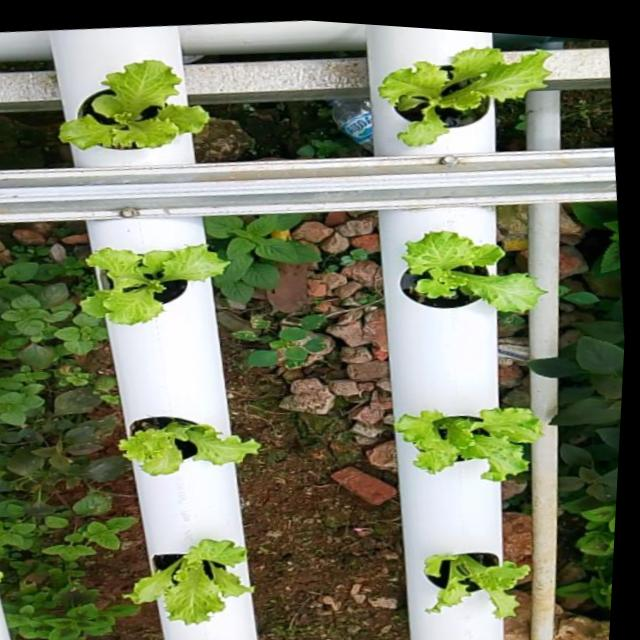Baby: (378, 47, 550, 146), (60, 59, 210, 165), (80, 242, 232, 324), (398, 229, 545, 312), (122, 538, 252, 624), (394, 406, 543, 481), (117, 415, 260, 475), (424, 552, 529, 617)
